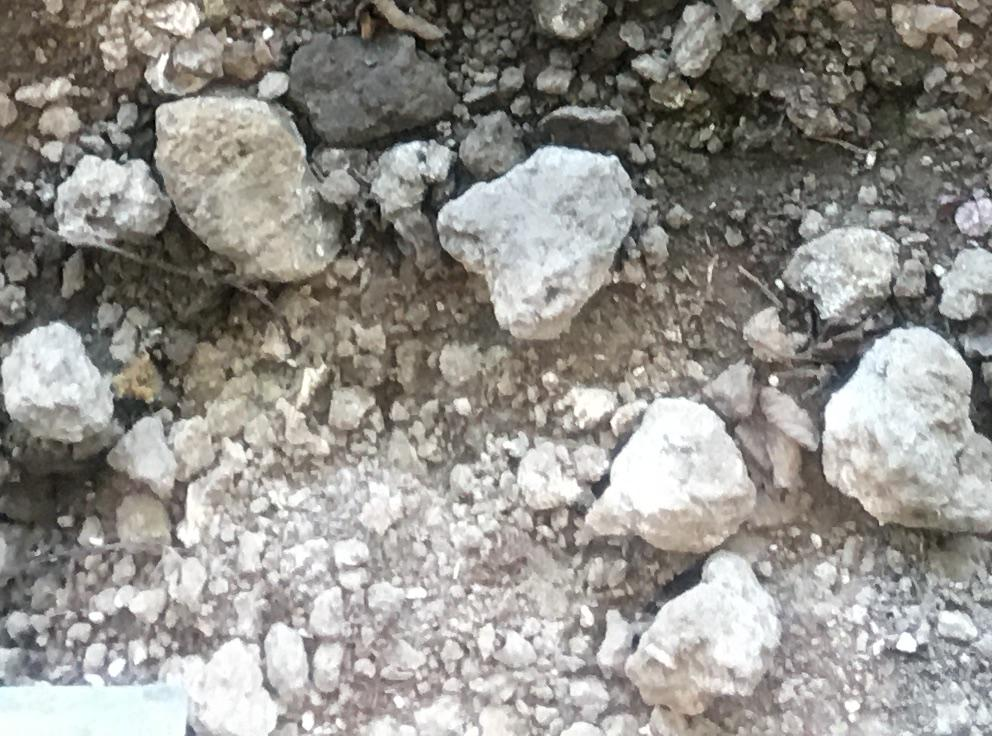block: (438, 144, 635, 343), (150, 87, 348, 280), (819, 330, 992, 543), (577, 396, 757, 553), (624, 554, 785, 719), (285, 32, 459, 144), (4, 319, 119, 468)
